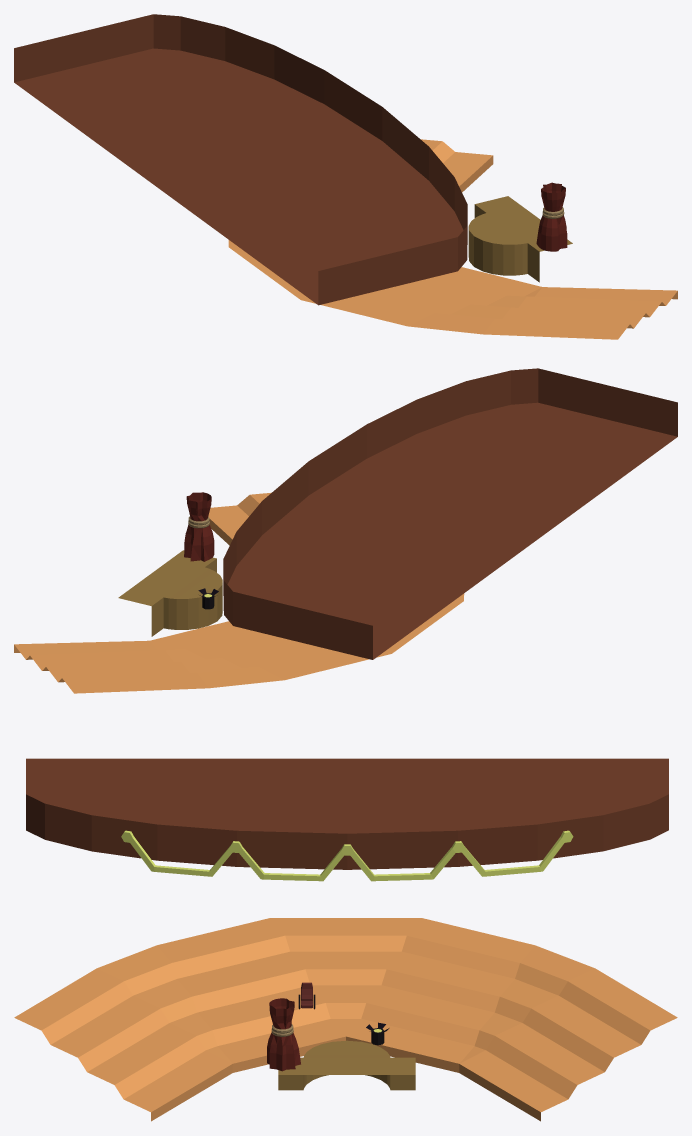
File: TheaterRoom.fbx.fbx
3 views of the same model, one above another, from view 1: azimuth 30°, elevation 25°; view 2: azimuth 150°, elevation 25°; view 3: azimuth 270°, elevation 25° (orthographic). The views are drawn at different scales.
Visible parts, largest first — view 1: Balcony, ChairFloor, Floor, Curtains; view 2: Balcony, ChairFloor, Floor, Curtains; view 3: ChairFloor, Balcony, Floor, Curtains.
Boxes of the visible parts, left/top/right/bottom form: Balcony: left=14, top=14, right=467, bottom=305; ChairFloor: left=228, top=139, right=677, bottom=339; Floor: left=468, top=196, right=572, bottom=282; Curtains: left=536, top=182, right=567, bottom=251; Balcony: left=223, top=368, right=677, bottom=659; ChairFloor: left=14, top=492, right=464, bottom=693; Floor: left=118, top=550, right=222, bottom=636; Curtains: left=184, top=492, right=214, bottom=561; ChairFloor: left=14, top=918, right=677, bottom=1121; Balcony: left=26, top=758, right=668, bottom=881; Floor: left=278, top=1040, right=415, bottom=1090; Curtains: left=267, top=998, right=300, bottom=1071.
Size of the model in its own units: 1305 by 543 by 1697.
